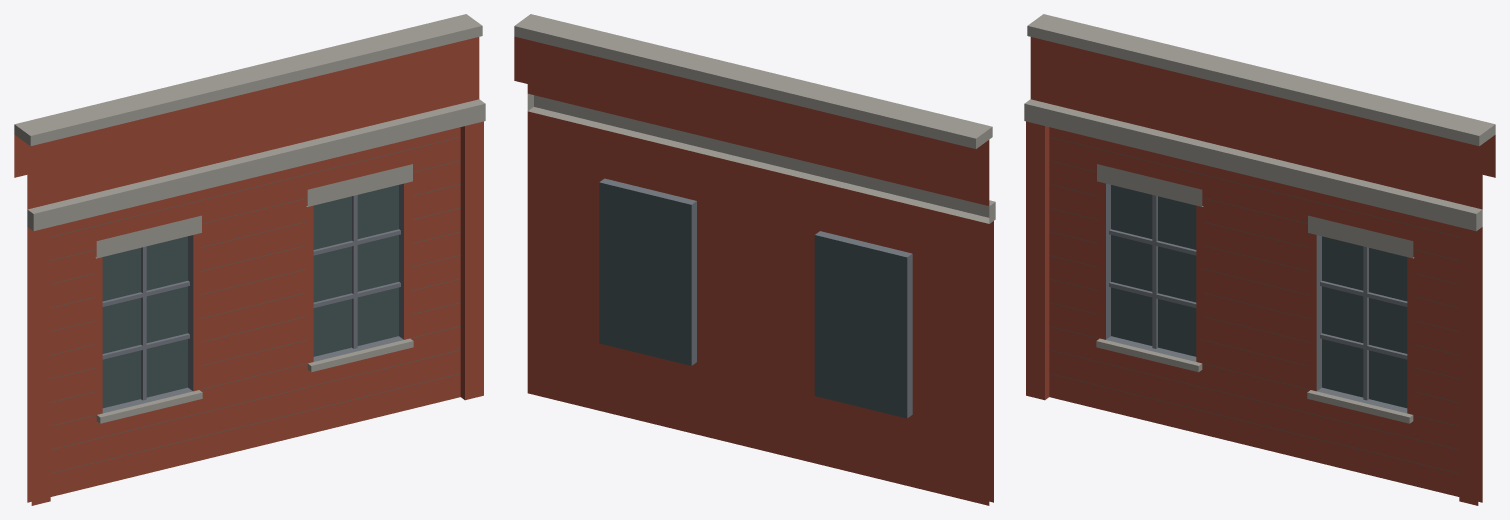
File: top-w1_close.fbx
3 renders of one model, left to right at view 1: azimuth 30°, elevation 25°; view 2: azimuth 150°, elevation 25°; view 3: azimuth 330°, elevation 25°, orthographic. The views are drawn at different scales.
Visible parts, largest first — view 1: a2013/700/top-w1_close; view 2: a2013/700/top-w1_close; view 3: a2013/700/top-w1_close.
Boxes of the visible parts, x1,y1,x2,y2 form: a2013/700/top-w1_close: [14, 14, 485, 505]; a2013/700/top-w1_close: [514, 14, 995, 505]; a2013/700/top-w1_close: [1024, 14, 1495, 505].
Size of the model in its own units: 6 by 4.68 by 0.44.
